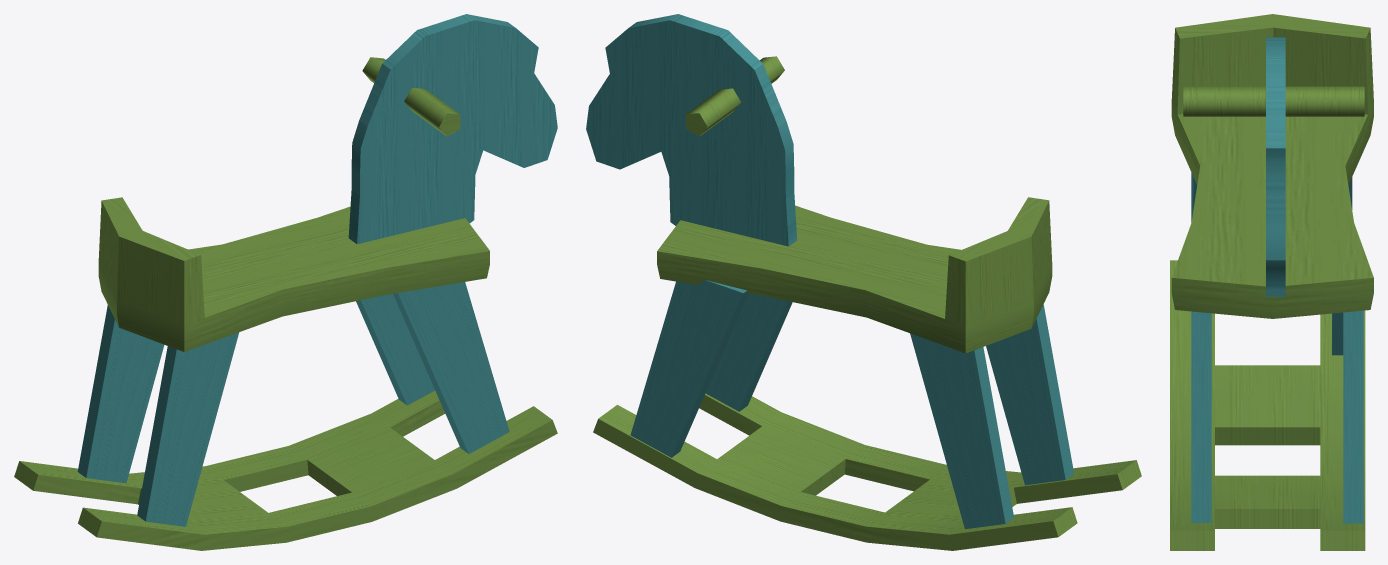
File: Rocking_Horse_B.FBX
The picture shows the model from 3 angles, left to right: view 1: azimuth 30°, elevation 25°; view 2: azimuth 150°, elevation 25°; view 3: azimuth 270°, elevation 25°; orthographic projection. The views are drawn at different scales.
Visible parts, largest first — view 1: Rocking_Horse; view 2: Rocking_Horse; view 3: Rocking_Horse.
Boxes of the visible parts, <box> form: Rocking_Horse: <box>14,14,557,550</box>; Rocking_Horse: <box>586,14,1141,550</box>; Rocking_Horse: <box>1170,14,1373,550</box>.
Size of the model in its own units: 170 by 141 by 50.58.
